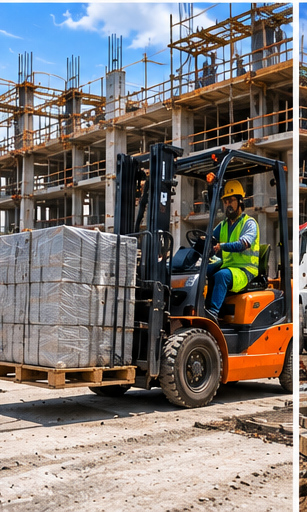hardhat: (217, 178, 244, 200)
machinery: (4, 135, 294, 405)
person: (196, 172, 271, 316)
safety_vest: (221, 224, 261, 282)
